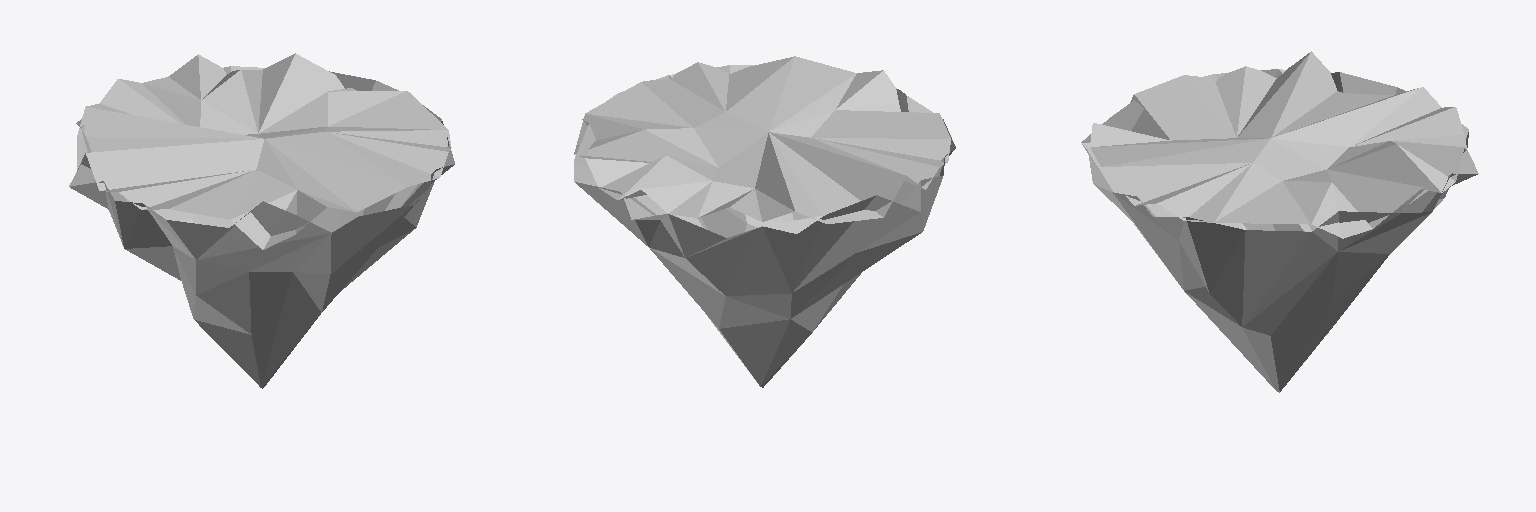
File: stone.obj
The picture shows the model from 3 angles: view 1: azimuth 30°, elevation 25°; view 2: azimuth 150°, elevation 25°; view 3: azimuth 270°, elevation 25°; orthographic projection.
Size of the model in its own units: 137 by 103 by 139.